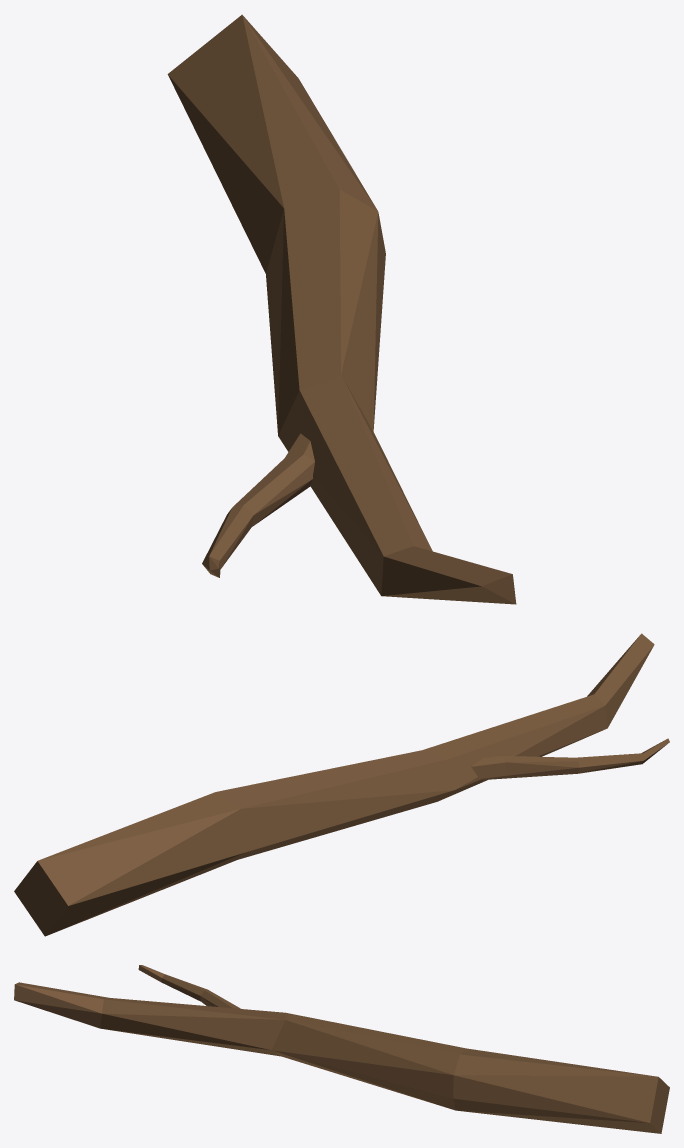
Rendered from Stick.fbx.
3 renders of one model, top to bottom at view 1: azimuth 30°, elevation 25°; view 2: azimuth 150°, elevation 25°; view 3: azimuth 270°, elevation 25°, orthographic. The views are drawn at different scales.
Visible parts, largest first — view 1: Cylinder.002, Cylinder.003; view 2: Cylinder.002, Cylinder.003; view 3: Cylinder.002, Cylinder.003.
Boxes of the visible parts, <box> form: Cylinder.002: <box>167,14,516,604</box>; Cylinder.003: <box>202,433,314,577</box>; Cylinder.002: <box>14,633,654,936</box>; Cylinder.003: <box>471,738,669,779</box>; Cylinder.002: <box>14,982,669,1133</box>; Cylinder.003: <box>138,965,240,1008</box>.
Bounding box in the file's own units: 13.8 × 2.75 × 26.27.
